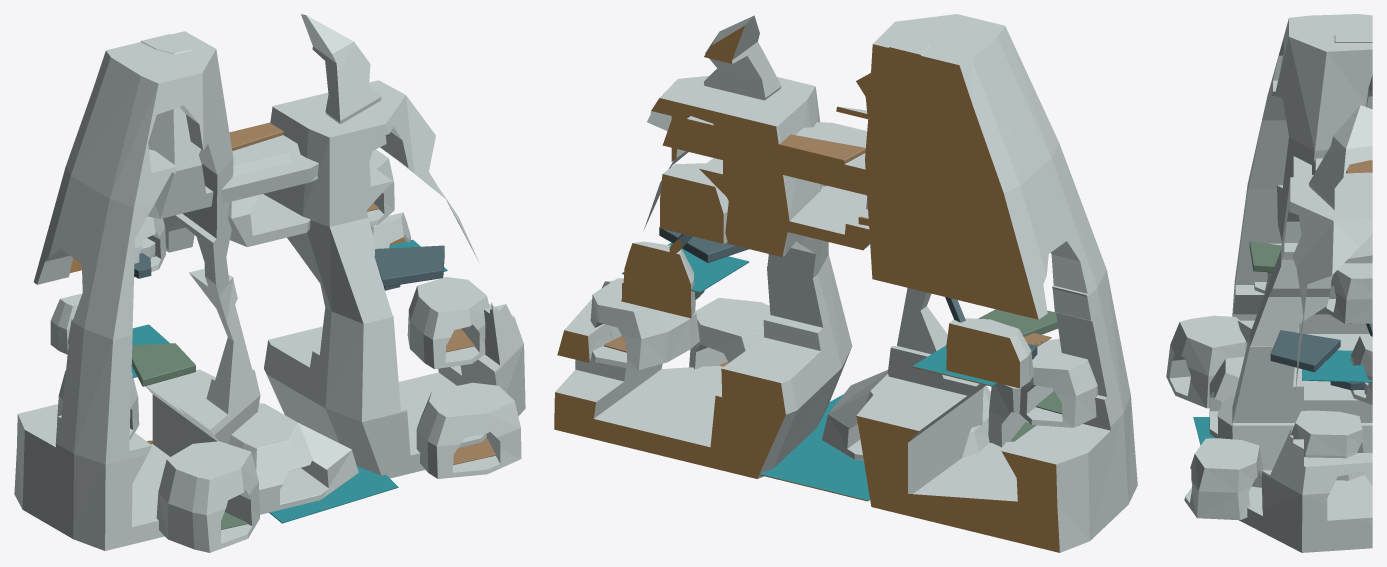
The model's file is SECTION_XZ_Y680.glb.
3 renders of one model, left to right at view 1: azimuth 30°, elevation 25°; view 2: azimuth 150°, elevation 25°; view 3: azimuth 270°, elevation 25°, orthographic. The views are drawn at different scales.
Visible parts, largest first — view 1: C01_WEST_DEEP__inhabited_land, C02_EAST_TIDELAND__inhabited_land, C04_CONFLUENCE_SKY__inhabited_land, R1_S01__inhabited_land, R1_INNER_COAST__inhabited_land, R1_S02__inhabited_land, R1_E01__inhabited_land, R2_INTERWORLD_COMMON__inhabited_land, East collective ground, Lower confluence water, West suspended cultivation, R1_W02__inhabited_land (+6 smaller); view 2: C01_WEST_DEEP__inhabited_land, C02_EAST_TIDELAND__inhabited_land, C04_CONFLUENCE_SKY__inhabited_land, R2_INTERWORLD_COMMON__inhabited_land, R1_E01__inhabited_land, R1_W01__inhabited_land, R1_W02__inhabited_land, R1_E03__inhabited_land, Lower confluence water, R1_S02__inhabited_land, R1_E02__inhabited_land, R1_INNER_COAST__inhabited_land (+9 smaller); view 3: C02_EAST_TIDELAND__inhabited_land, C01_WEST_DEEP__inhabited_land, R1_S02__inhabited_land, R1_S01__inhabited_land, C04_CONFLUENCE_SKY__inhabited_land, R1_E01__inhabited_land, R1_E03__inhabited_land, R1_INNER_COAST__inhabited_land, East collective ground, East inner sea, R1_E02__inhabited_land, West suspended cultivation (+2 smaller).
Part boxes in pixels (bbox=[...]): C01_WEST_DEEP__inhabited_land: bbox=[14, 31, 260, 550]; C02_EAST_TIDELAND__inhabited_land: bbox=[263, 80, 525, 478]; C04_CONFLUENCE_SKY__inhabited_land: bbox=[140, 14, 386, 218]; R1_S01__inhabited_land: bbox=[156, 441, 259, 552]; R1_INNER_COAST__inhabited_land: bbox=[228, 403, 358, 514]; R1_S02__inhabited_land: bbox=[416, 382, 521, 478]; R1_E01__inhabited_land: bbox=[407, 277, 489, 369]; R2_INTERWORLD_COMMON__inhabited_land: bbox=[228, 135, 310, 246]; East collective ground: bbox=[374, 245, 444, 286]; Lower confluence water: bbox=[269, 466, 398, 523]; West suspended cultivation: bbox=[131, 343, 195, 386]; R1_W02__inhabited_land: bbox=[50, 293, 82, 354]; C01_WEST_DEEP__inhabited_land: bbox=[856, 14, 1137, 552]; C02_EAST_TIDELAND__inhabited_land: bbox=[554, 75, 852, 478]; C04_CONFLUENCE_SKY__inhabited_land: bbox=[662, 15, 979, 221]; R2_INTERWORLD_COMMON__inhabited_land: bbox=[727, 126, 876, 250]; R1_E01__inhabited_land: bbox=[590, 278, 699, 370]; R1_W01__inhabited_land: bbox=[1019, 339, 1097, 427]; R1_W02__inhabited_land: bbox=[946, 318, 1033, 388]; R1_E03__inhabited_land: bbox=[660, 163, 728, 243]; Lower confluence water: bbox=[721, 394, 869, 501]; R1_S02__inhabited_land: bbox=[689, 298, 770, 369]; R1_E02__inhabited_land: bbox=[621, 241, 695, 318]; R1_INNER_COAST__inhabited_land: bbox=[822, 370, 990, 460]; C02_EAST_TIDELAND__inhabited_land: bbox=[1232, 172, 1372, 552]; C01_WEST_DEEP__inhabited_land: bbox=[1232, 14, 1372, 350]; R1_S02__inhabited_land: bbox=[1184, 438, 1262, 520]; R1_S01__inhabited_land: bbox=[1166, 315, 1247, 408]; C04_CONFLUENCE_SKY__inhabited_land: bbox=[1293, 30, 1372, 258]; R1_E01__inhabited_land: bbox=[1291, 410, 1364, 480]; R1_E03__inhabited_land: bbox=[1325, 263, 1372, 323]; R1_INNER_COAST__inhabited_land: bbox=[1209, 357, 1244, 439]; East collective ground: bbox=[1270, 330, 1340, 372]; East inner sea: bbox=[1302, 350, 1372, 382]; R1_E02__inhabited_land: bbox=[1350, 333, 1372, 404]; West suspended cultivation: bbox=[1249, 241, 1281, 272].
Size of the model in its own units: 5430 by 4560 by 2280.
